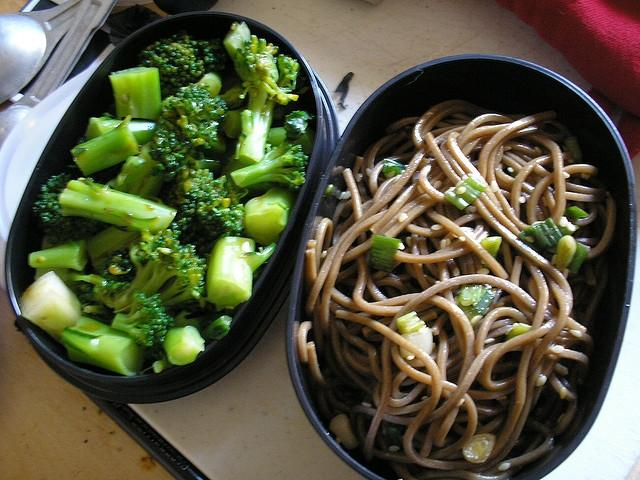broccoli: (233, 35, 300, 166), (115, 229, 212, 315), (166, 169, 250, 258), (59, 178, 178, 236), (200, 236, 278, 312), (136, 34, 223, 100), (32, 173, 104, 245), (59, 316, 145, 376), (19, 270, 81, 342), (230, 139, 310, 193), (71, 114, 139, 176), (110, 290, 174, 346), (108, 67, 162, 120), (245, 187, 290, 246), (84, 112, 158, 144), (88, 226, 142, 268), (28, 240, 88, 272), (106, 156, 152, 196), (162, 325, 206, 366), (34, 236, 70, 282), (176, 72, 222, 99), (224, 22, 252, 60)
